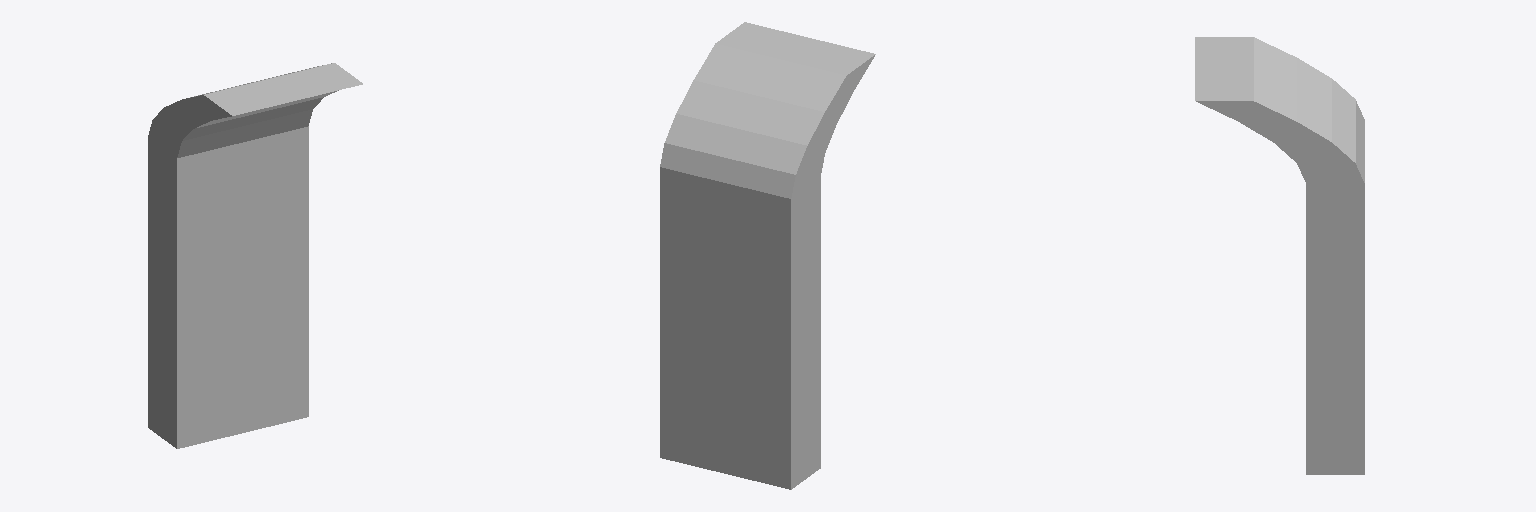
The model's file is runningwater2.obj.
The picture shows the model from 3 angles: view 1: azimuth 30°, elevation 25°; view 2: azimuth 150°, elevation 25°; view 3: azimuth 270°, elevation 25°; orthographic projection.
Visible parts, largest first — view 1: Cube_Cube.002; view 2: Cube_Cube.002; view 3: Cube_Cube.002.
Part boxes in pixels (x1,y1,x2,y2): Cube_Cube.002: (148,63,362,448); Cube_Cube.002: (660,22,875,489); Cube_Cube.002: (1195,37,1364,474).
Bounding box in the file's own units: 2 × 5.44 × 2.24.